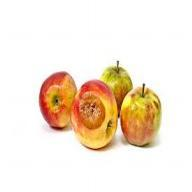apple: (72, 78, 118, 150), (118, 86, 162, 142), (39, 72, 76, 128), (99, 60, 133, 118)
